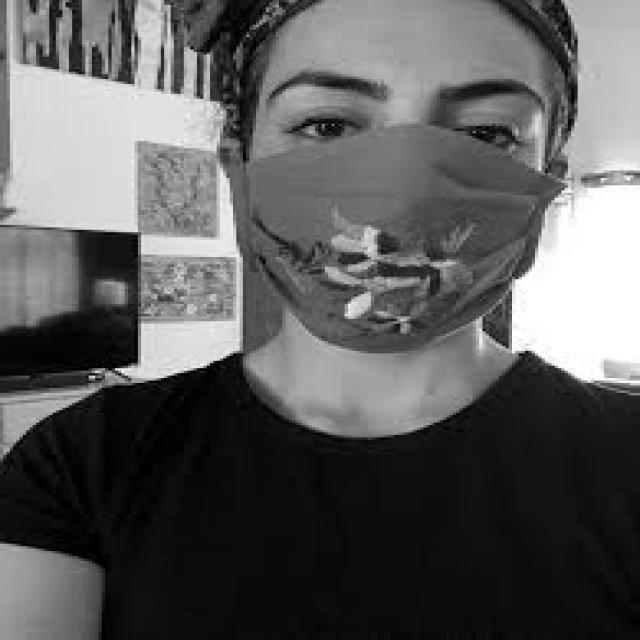fake: (217, 145, 570, 360)
real: (243, 0, 549, 363)
